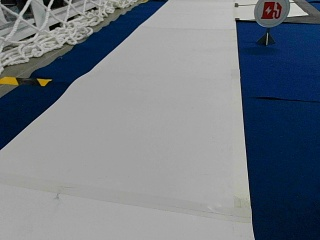battery: (253, 0, 290, 27)
